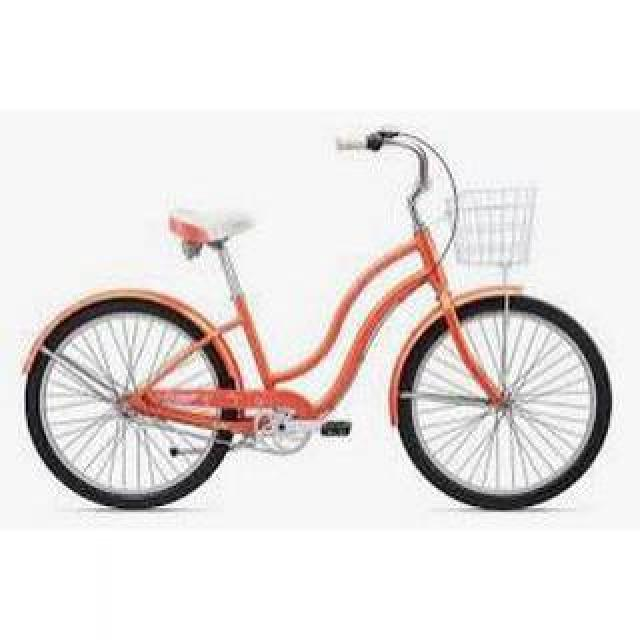Person: (21, 126, 615, 520)
